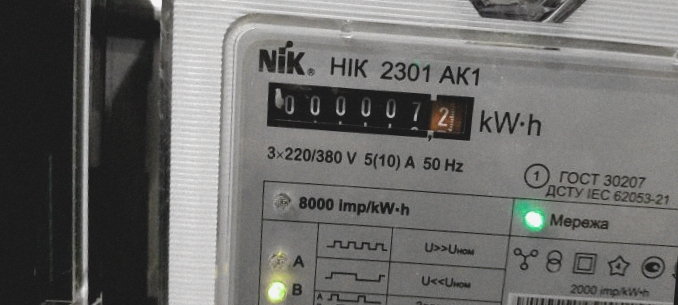0: (280, 91, 296, 116), (357, 94, 373, 118), (382, 95, 397, 120), (332, 93, 347, 117), (306, 93, 321, 116)
2: (435, 104, 450, 128)
7: (408, 98, 422, 123)
screen: (253, 67, 485, 153)
